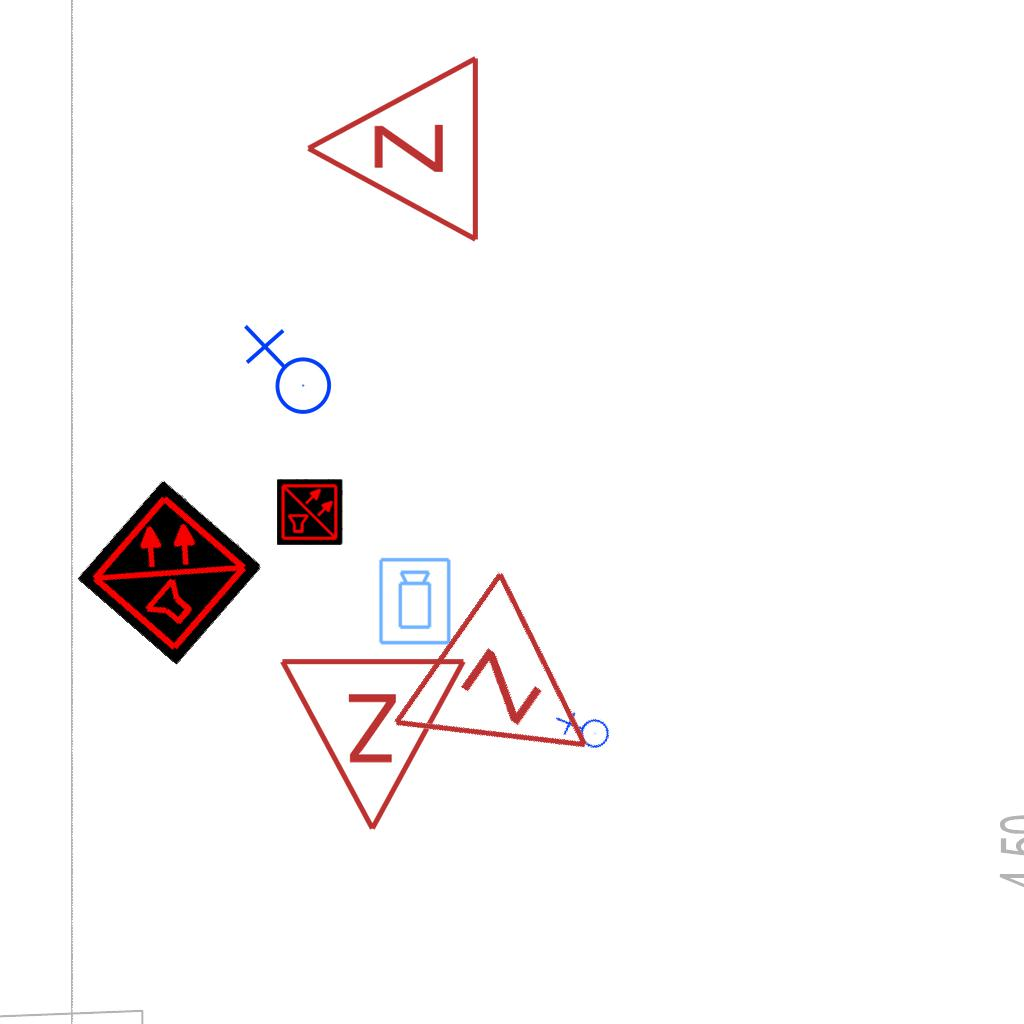Elektroanschluss_allgemein_230V_Geraeteanschlussdose_230V: (239, 324, 333, 423), (553, 699, 616, 764)
KFO_Kamera_mit_Festobjektiv: (377, 556, 454, 647)
OKW_Multisensormelder_(Kombination_optischer_Rauch-Kahlenmonoxid_Waerme-Melder): (76, 478, 264, 666), (277, 479, 343, 545)
Zimmersignalleuchte: (378, 556, 656, 832), (293, 53, 493, 249), (277, 644, 473, 844)
